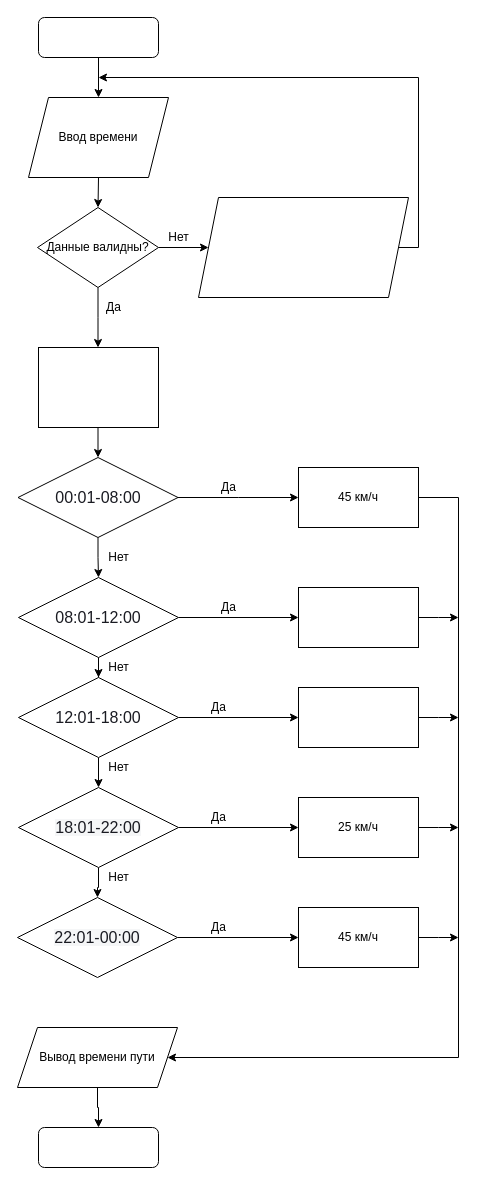
This 484x1185 diagram has some shape labels left out. Each missing label, with the centre of its shape:
30 км/ч: (358,617)
40 км/ч: (358,717)
Вывод ошибки: "Не корректно заполнены данные": (303,247)
Конец: (98,1147)
Начало: (98,37)
Расчет скорости транспорта: (98,387)
